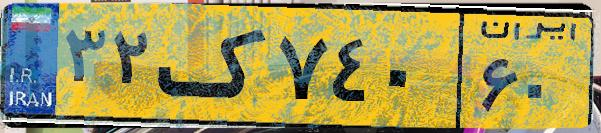0: (385, 28, 445, 110), (525, 38, 570, 115)
2: (110, 28, 158, 98)
3: (57, 26, 110, 100)
4: (330, 28, 385, 110)
6: (475, 38, 525, 113)
7: (270, 28, 330, 110)
ک: (158, 12, 270, 120)
